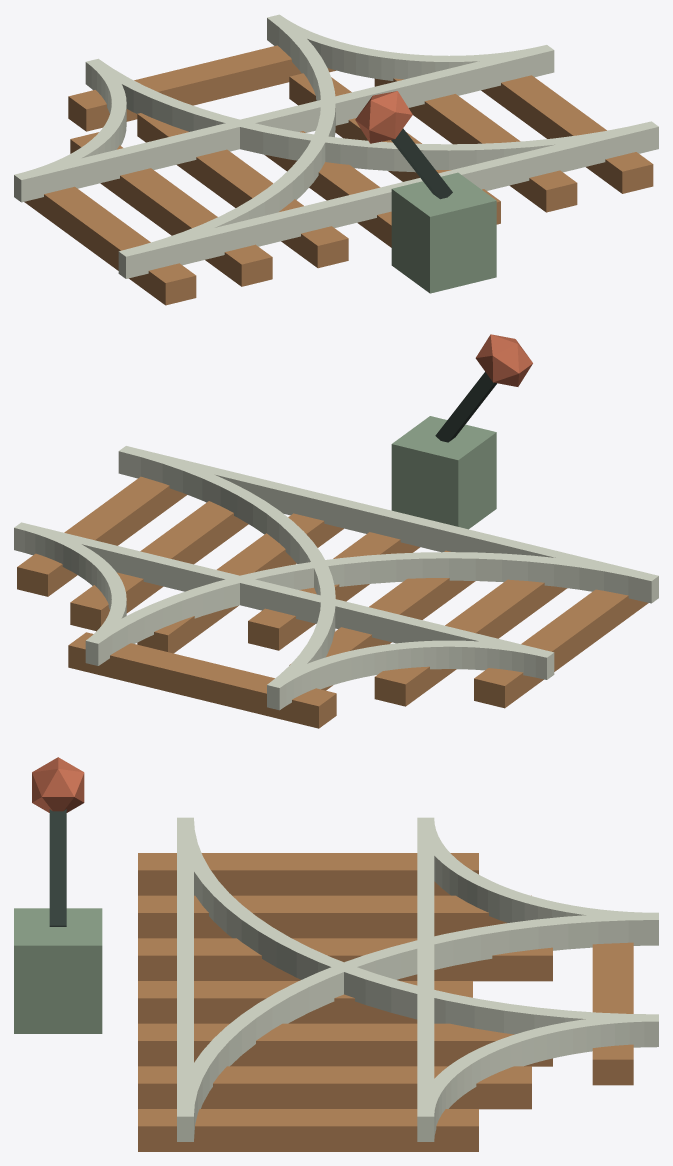
File: rail-t_up.glb
The picture shows the model from 3 angles, top to bottom: view 1: azimuth 30°, elevation 25°; view 2: azimuth 150°, elevation 25°; view 3: azimuth 270°, elevation 25°; orthographic projection. The views are drawn at different scales.
Visible parts, largest first — view 1: Connected steel rails, Mesh_rail-t_up_wood, Switch housing, Lever knob, Lever; view 2: Connected steel rails, Mesh_rail-t_up_wood, Switch housing, Lever knob, Lever; view 3: Mesh_rail-t_up_wood, Connected steel rails, Switch housing, Lever knob, Lever.
Boxes of the visible parts, x1,y1,x2,y2 form: Connected steel rails: [14, 14, 658, 278]; Mesh_rail-t_up_wood: [24, 45, 653, 305]; Switch housing: [391, 172, 496, 293]; Lever knob: [355, 91, 412, 143]; Lever: [391, 128, 452, 199]; Connected steel rails: [14, 446, 658, 710]; Mesh_rail-t_up_wood: [17, 476, 648, 728]; Switch housing: [391, 416, 496, 529]; Lever knob: [475, 334, 532, 386]; Lever: [435, 372, 496, 442]; Mesh_rail-t_up_wood: [138, 853, 633, 1151]; Connected steel rails: [177, 817, 658, 1141]; Switch housing: [14, 908, 102, 1033]; Lever knob: [32, 757, 84, 812]; Lever: [49, 809, 66, 926].
Bounding box in the file's own units: 1 × 0.344 × 0.9125.
